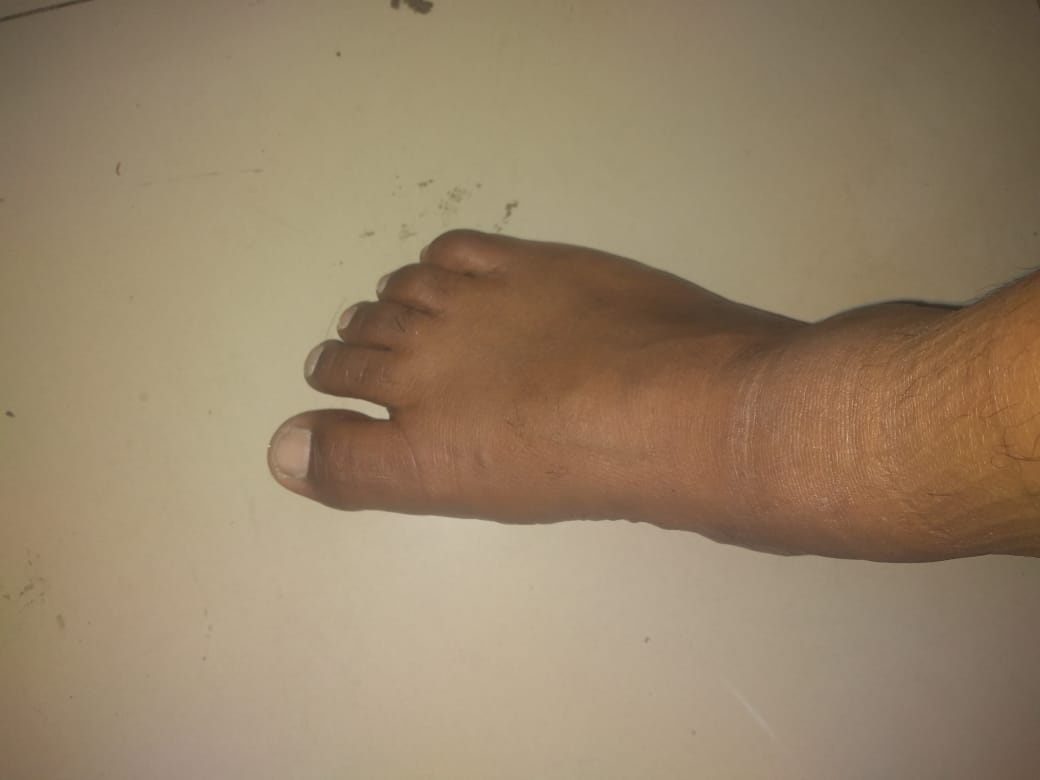feet: (228, 169, 897, 570)
